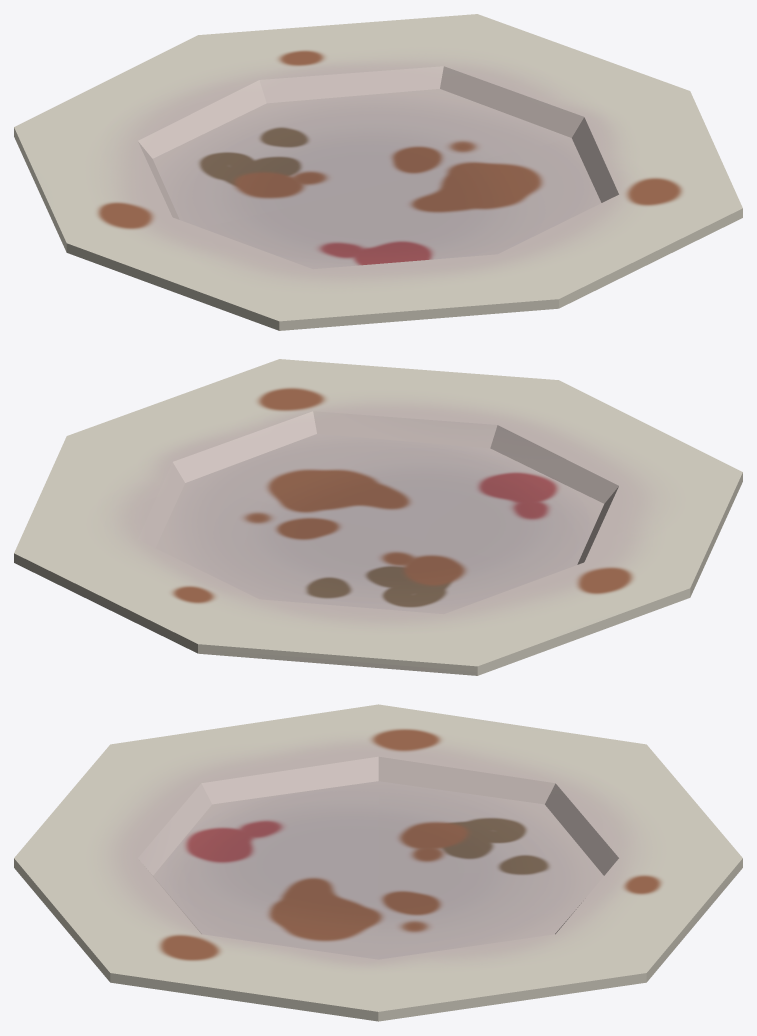
File: plato.fbx
3 renders of one model, top to bottom at view 1: azimuth 30°, elevation 25°; view 2: azimuth 150°, elevation 25°; view 3: azimuth 270°, elevation 25°, orthographic.
Visible parts, largest first — view 1: Plane; view 2: Plane; view 3: Plane.
Part boxes in pixels (<box>): Plane: <box>14,14,742,330</box>; Plane: <box>14,359,742,675</box>; Plane: <box>14,704,742,1021</box>.
Size of the model in its own units: 24.37 by 1.03 by 24.42.
